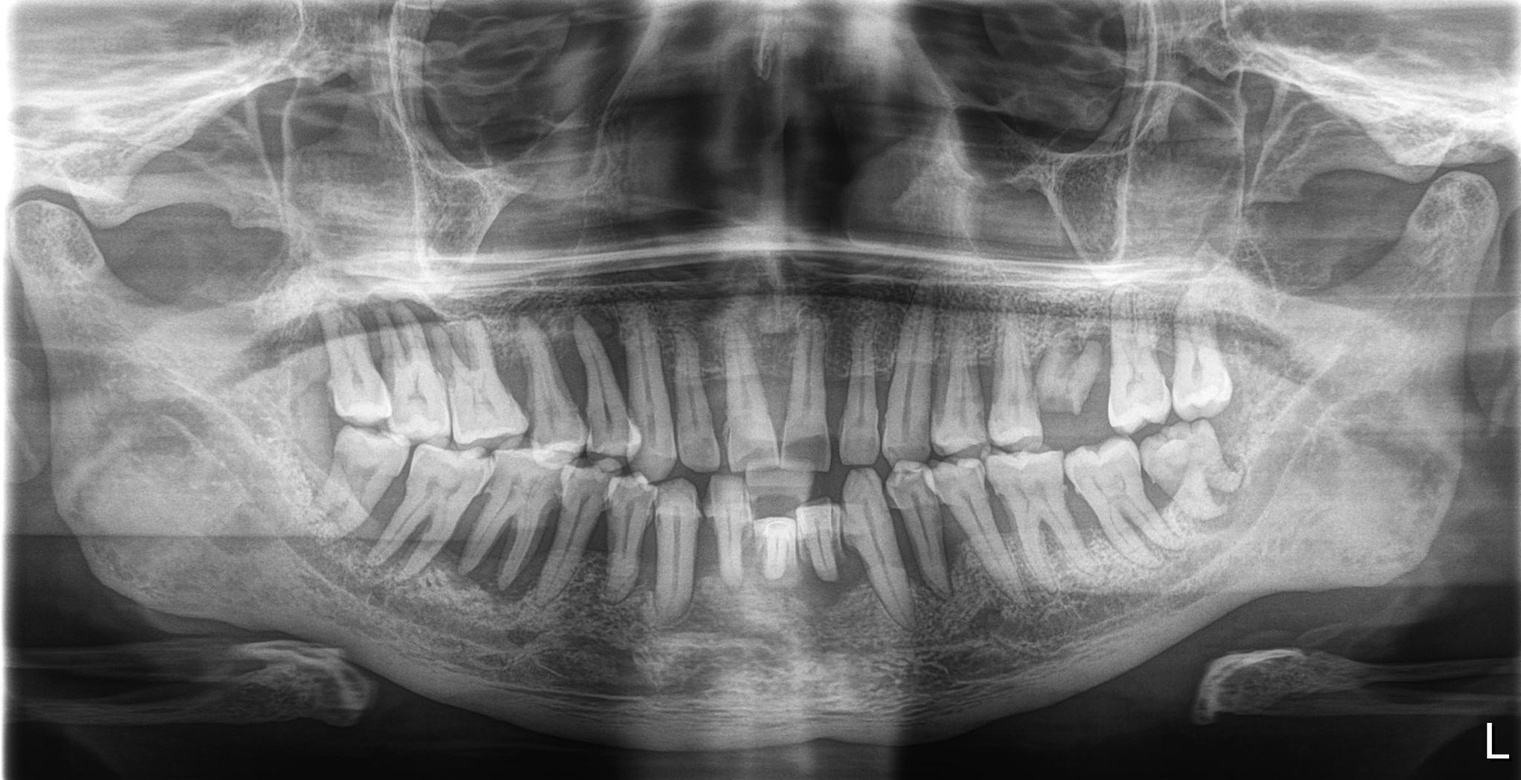Periapical Abnormality: (292, 267, 1407, 652), (407, 492, 564, 591)
Periapical Lesion: (1143, 442, 1302, 538)
Tooth Fracture: (1032, 330, 1100, 425)
